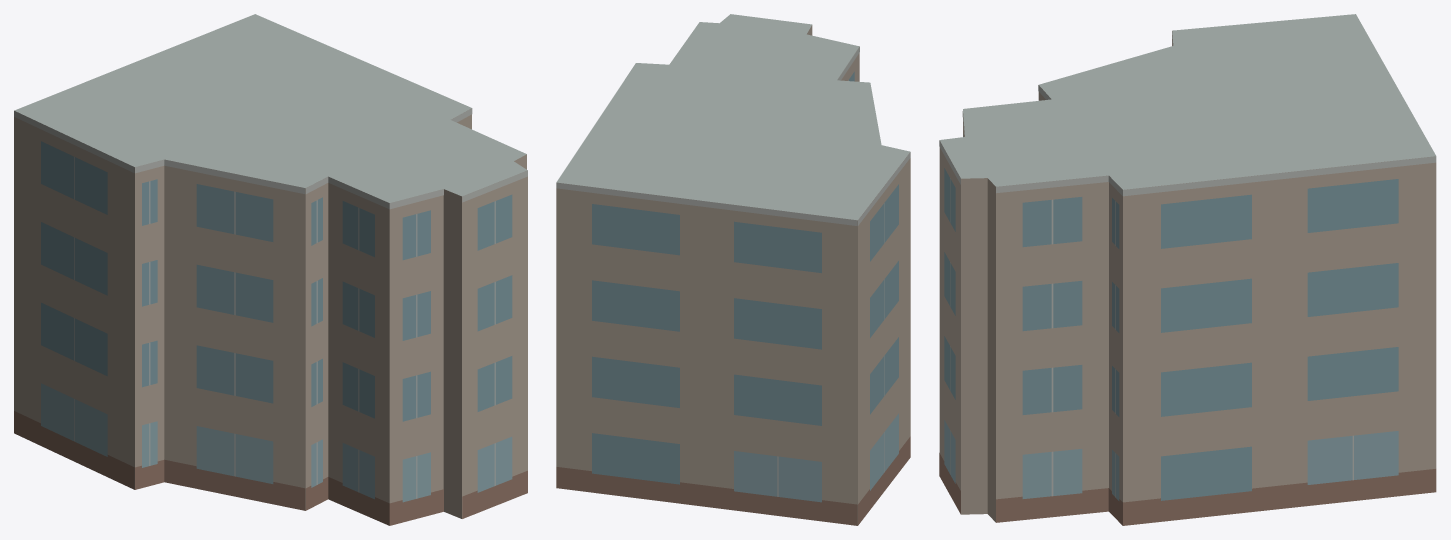
Rendered from survey-upis-32742395.glb.
3 views of the same model, side by side, from view 1: azimuth 30°, elevation 25°; view 2: azimuth 150°, elevation 25°; view 3: azimuth 270°, elevation 25° (orthographic). The views are drawn at different scales.
Parts seen in each view (by area): view 1: survey-upis-32742395.tmp; view 2: survey-upis-32742395.tmp; view 3: survey-upis-32742395.tmp.
Part boxes in pixels (box(x1,y1,x2,y2)): survey-upis-32742395.tmp: box(14, 14, 527, 525); survey-upis-32742395.tmp: box(556, 14, 910, 525); survey-upis-32742395.tmp: box(939, 14, 1436, 525).
Bounding box in the file's own units: 14.27 × 12.7 × 17.03.
